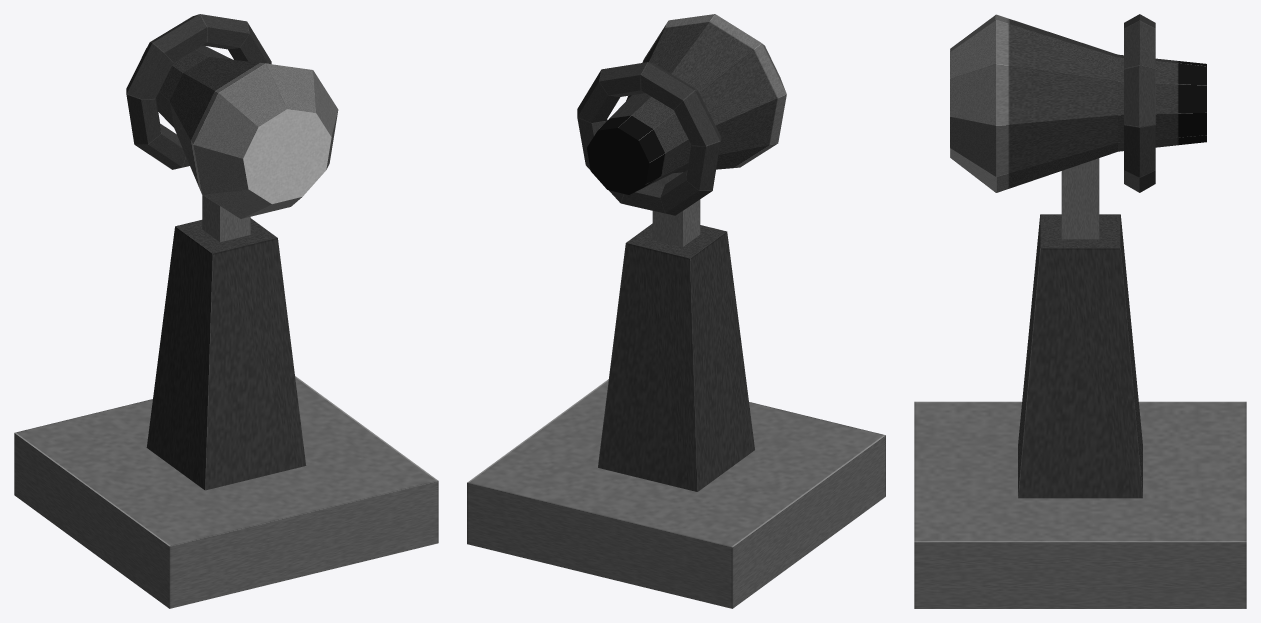
Rendered from energy_beam_reflector.obj.
3 views of the same model, side by side, from view 1: azimuth 30°, elevation 25°; view 2: azimuth 150°, elevation 25°; view 3: azimuth 270°, elevation 25° (orthographic). The views are drawn at different scales.
Parts seen in each view (by area): view 1: Base, EnergyBlaster, Ring, Axle; view 2: Base, EnergyBlaster, Ring, Axle; view 3: Base, EnergyBlaster, Ring, Axle.
Boxes of the visible parts, x1,y1,x2,y2 form: Base: (14,218,438,608); EnergyBlaster: (142,45,338,218); Ring: (126,14,271,169); Axle: (202,195,250,242); Base: (467,223,885,608); EnergyBlaster: (587,14,786,194); Ring: (577,62,720,215); Axle: (652,172,700,247); Base: (914,214,1246,608); EnergyBlaster: (950,14,1206,192); Ring: (1124,14,1155,192); Axle: (1061,158,1099,239).
Size of the model in its own units: 0.7413 by 1.28 by 0.7413.
